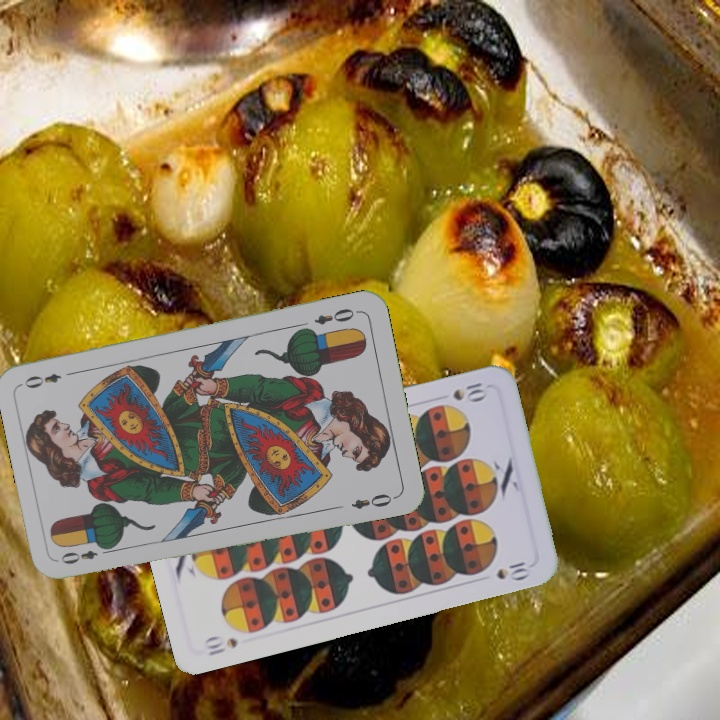EO: (57, 541, 114, 567), (310, 304, 362, 328)
S10: (449, 378, 490, 405), (200, 632, 241, 658)
